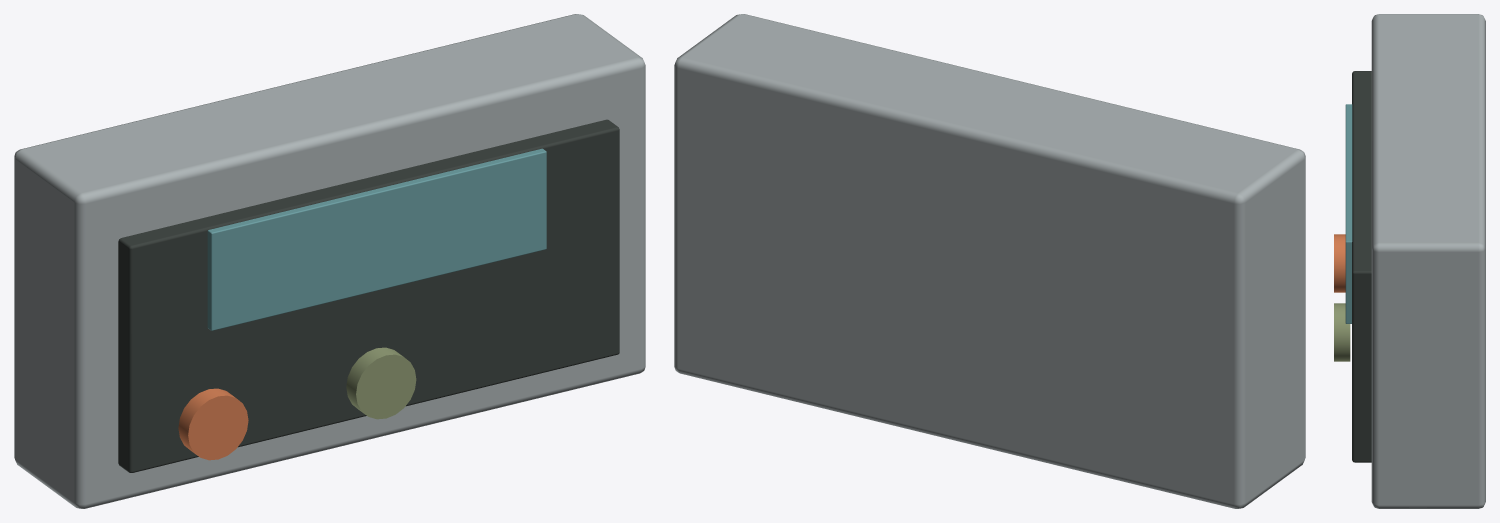
File: off-grid-power-and-controls-battery-monitor-dbfe4fb4__3016.glb
The picture shows the model from 3 angles, left to right: view 1: azimuth 30°, elevation 25°; view 2: azimuth 150°, elevation 25°; view 3: azimuth 270°, elevation 25°; orthographic projection. The views are drawn at different scales.
Parts seen in each view (by area): view 1: battery-monitor; view 2: battery-monitor; view 3: battery-monitor.
Boxes of the visible parts, x1,y1,x2,y2 form: battery-monitor: [14, 14, 645, 508]; battery-monitor: [674, 14, 1305, 508]; battery-monitor: [1334, 14, 1485, 508].
Bounding box in the file's own units: 0.17 × 0.09 × 0.0465.
